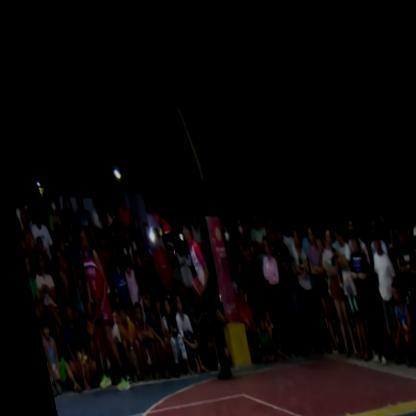basketball: (186, 272, 198, 294)
